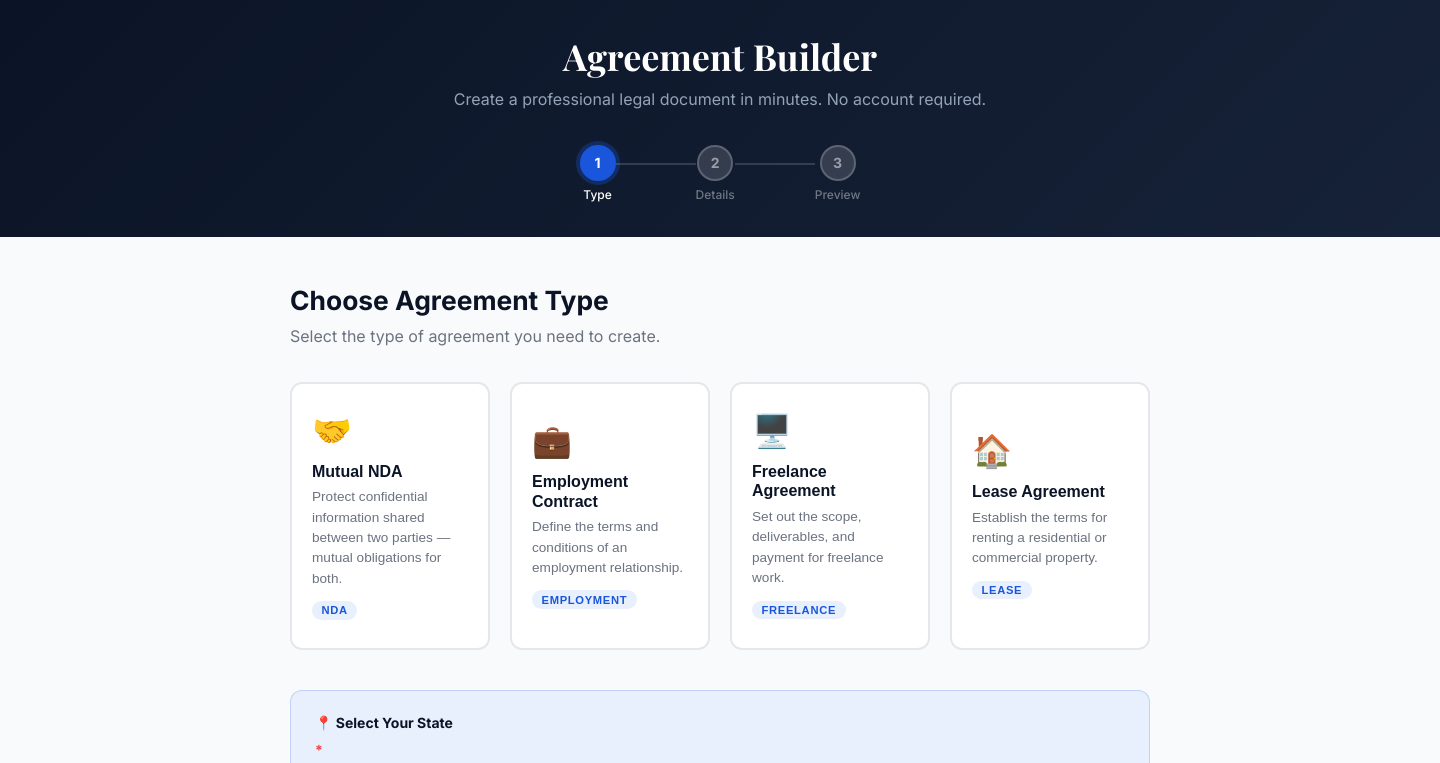
Test: BuilderWizard — step navigation › advances to Step 2 after selecting type + state and clicking Next
The width and height of the screenshot is (1440, 763).
Click the heading "Mutual NDA".
click(357, 471)  # box [312,463,403,480]
(page scrolled)
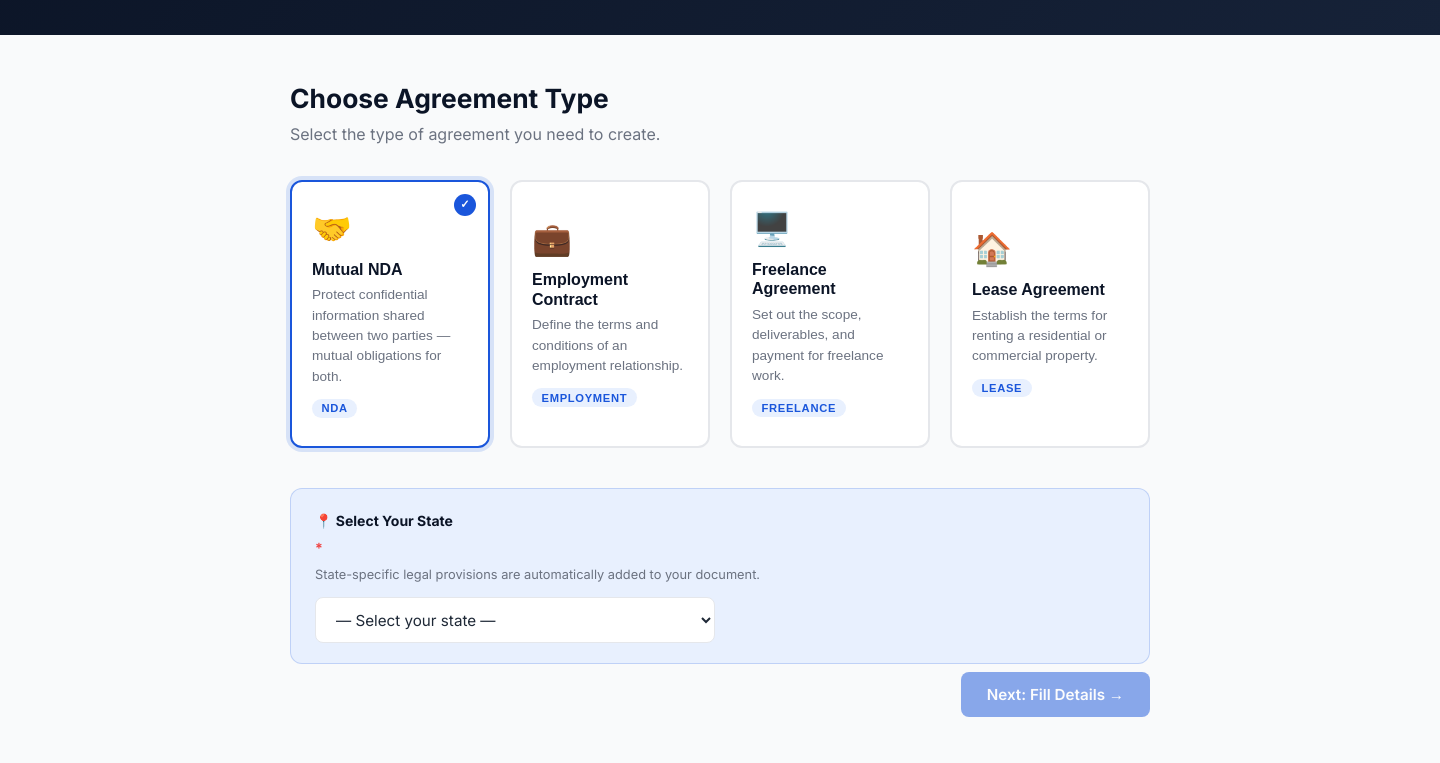
Select "California (CA)" in the dropdown at point(515, 620), box [315,597,715,643]
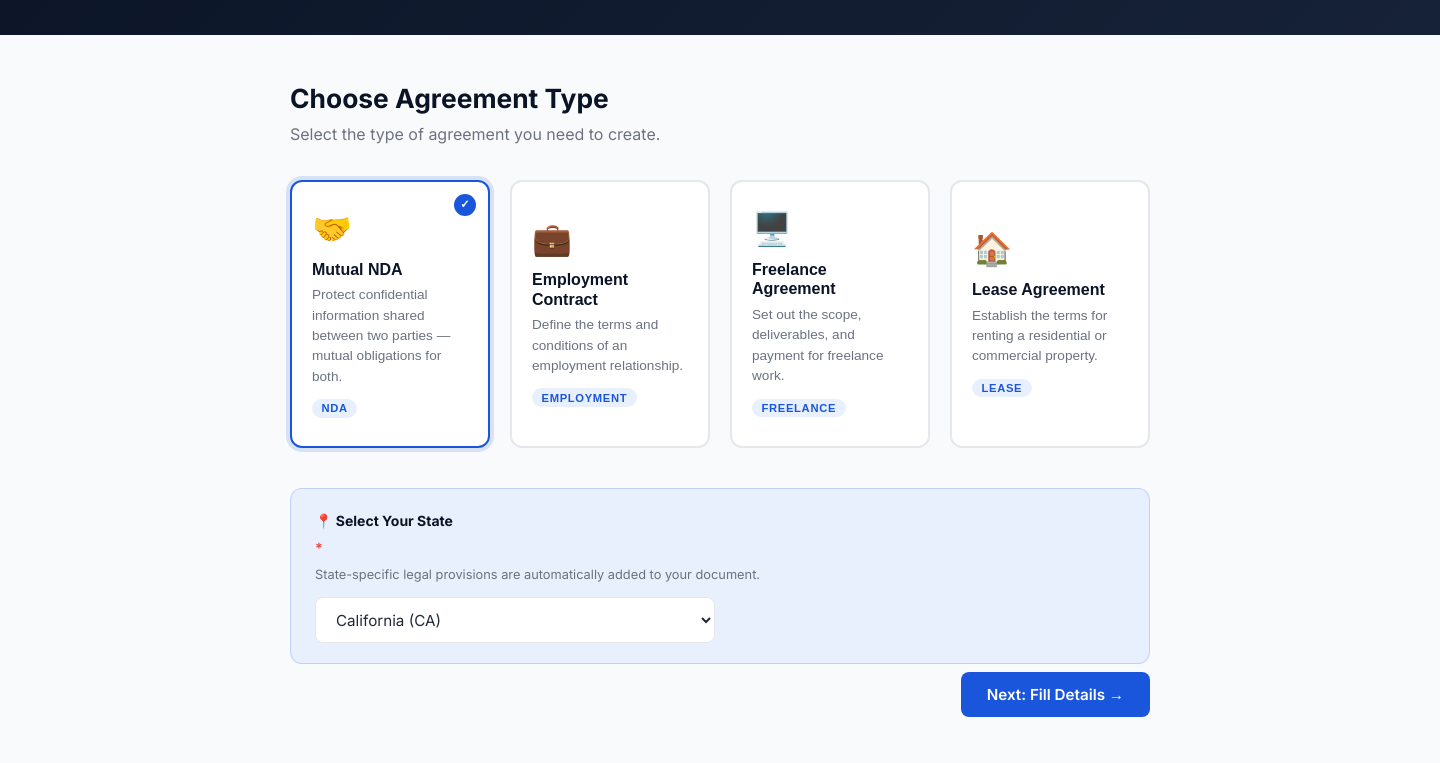
Click the button "Next: Fill Details →".
click(1055, 694)  # box [961,672,1150,717]
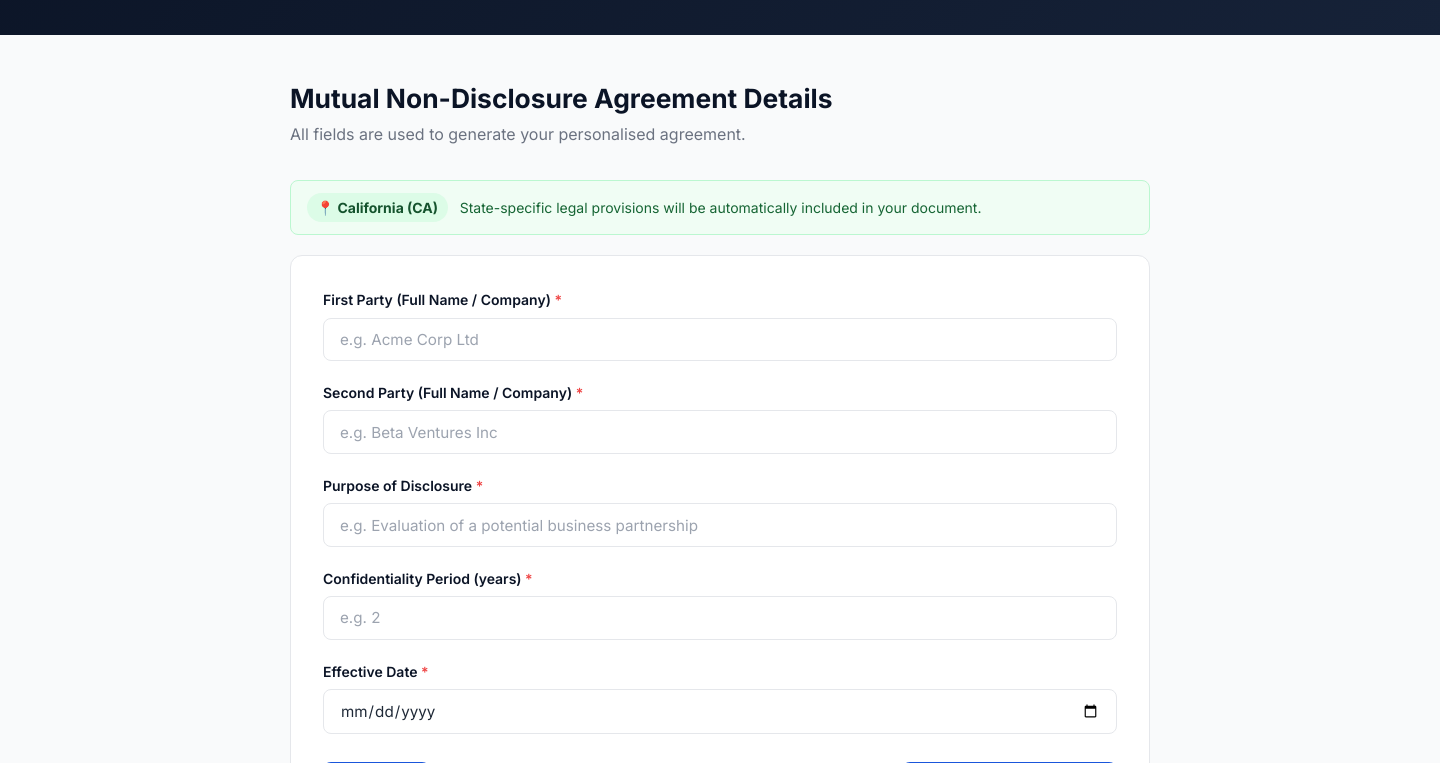
Result: the heading "Mutual Non-Disclosure Agreement Details" is shown at [290,82,832,114]
